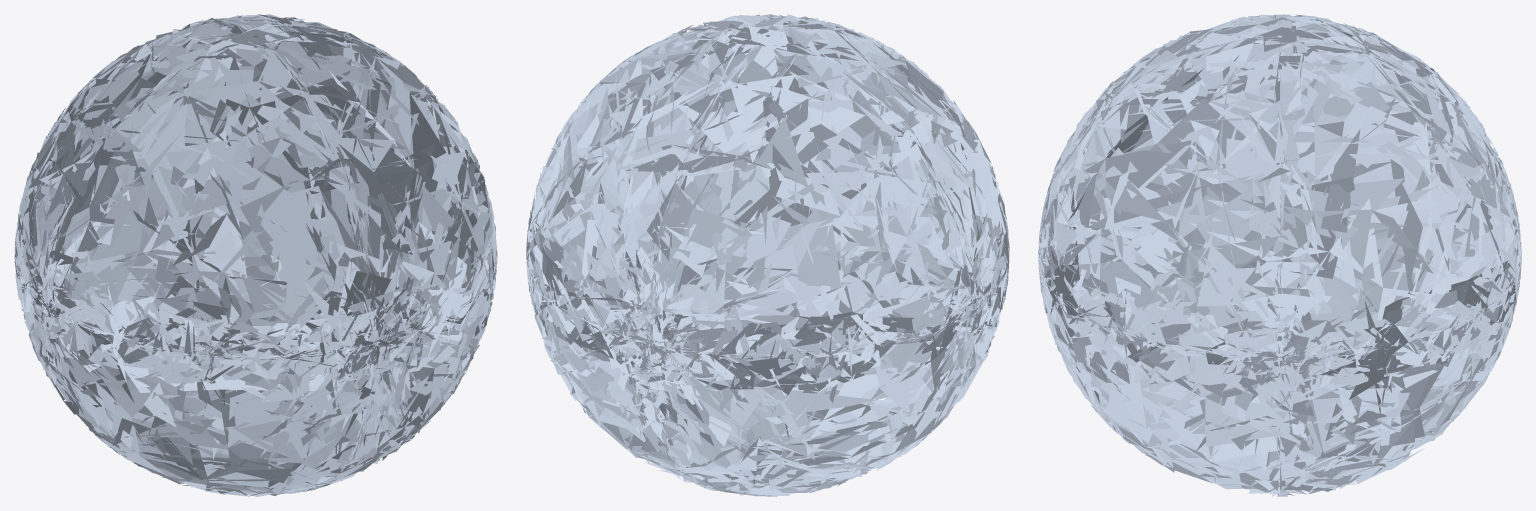
The picture shows the model from 3 angles, left to right: view 1: azimuth 30°, elevation 25°; view 2: azimuth 150°, elevation 25°; view 3: azimuth 270°, elevation 25°; orthographic projection.
Visible parts, largest first — view 1: 2C-6C-structural; view 2: 2C-6C-structural; view 3: 2C-6C-structural.
Part boxes in pixels (<box>): 2C-6C-structural: <box>14,14,497,496</box>; 2C-6C-structural: <box>526,14,1009,496</box>; 2C-6C-structural: <box>1038,14,1521,496</box>.
Bounding box in the file's own units: 2 × 2 × 2.
